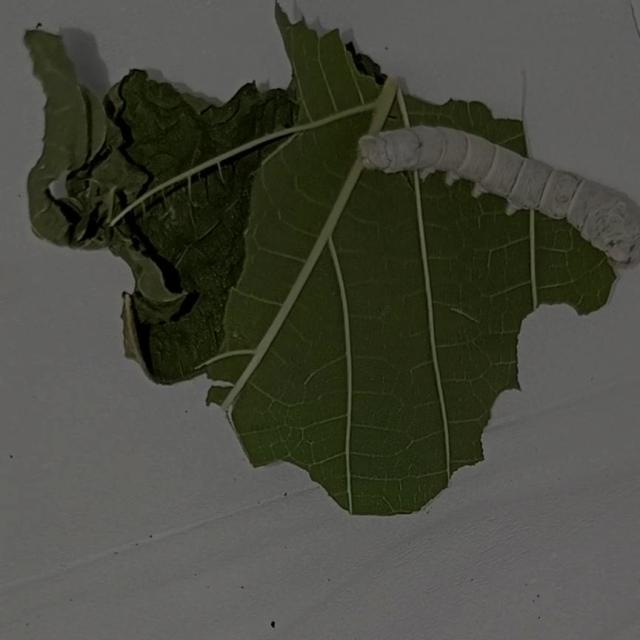Healthy: (350, 102, 635, 282)
